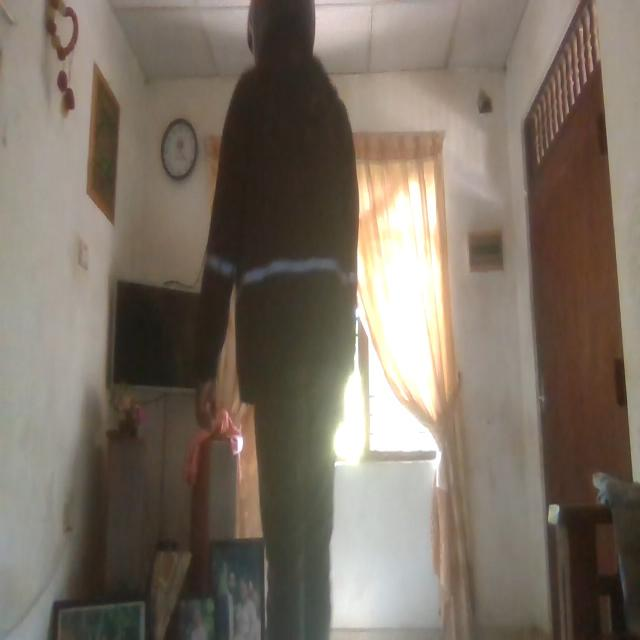Helmet_Wearer: (240, 0, 338, 79)
Jacket_Wearer: (199, 61, 375, 414)
Person: (210, 0, 358, 640)
